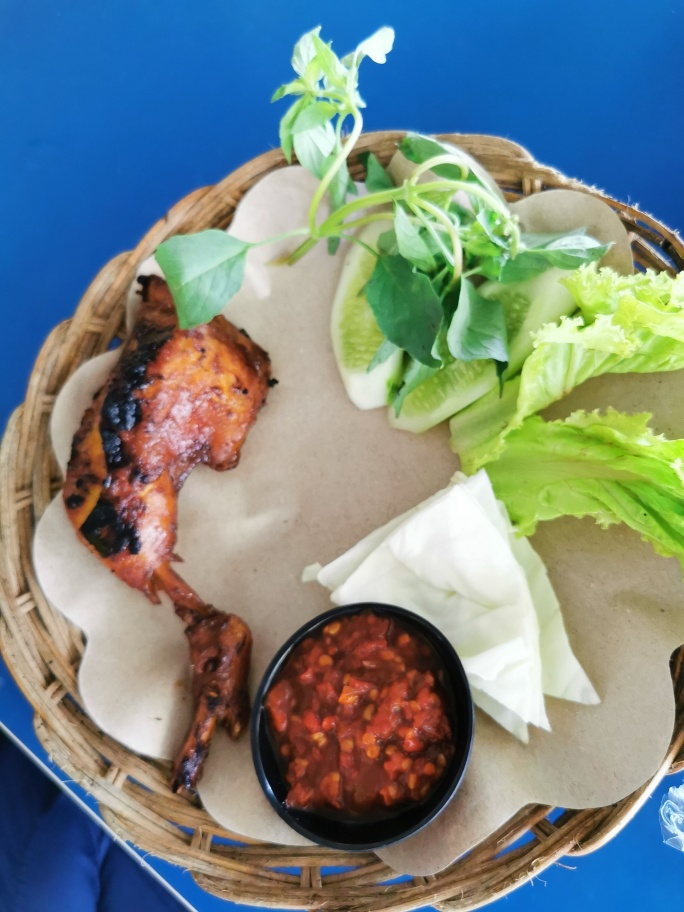ayam bakar: (43, 282, 306, 793)
